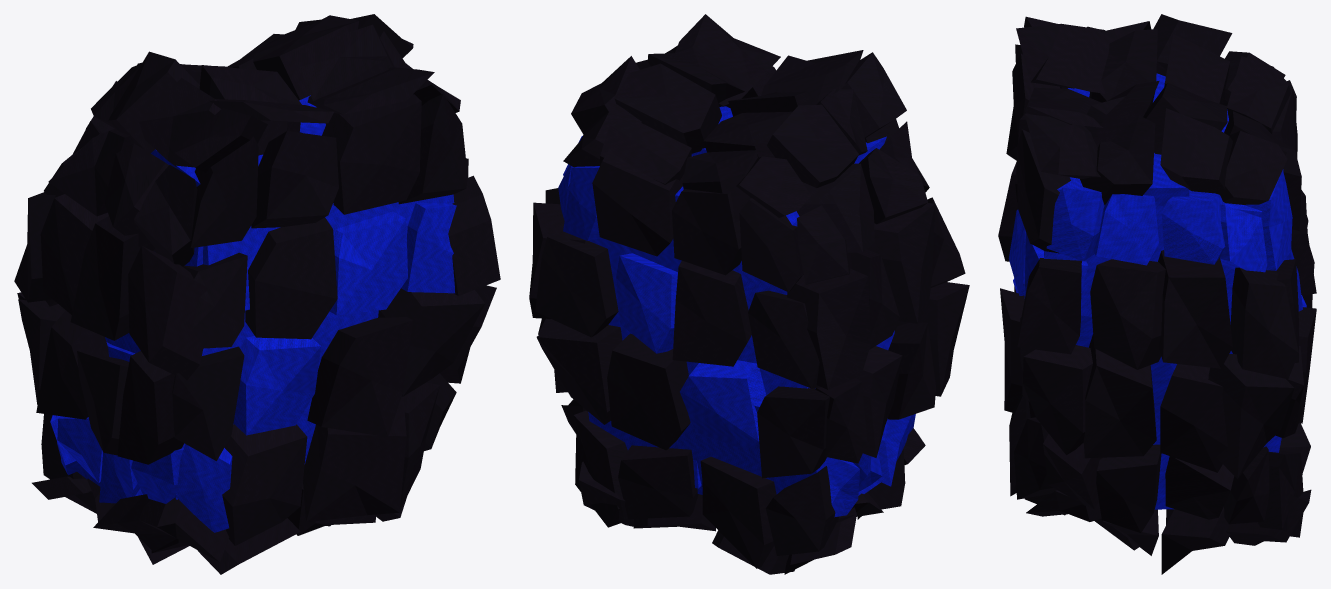
The model's file is nightglass_ore.glb.
3 renders of one model, left to right at view 1: azimuth 30°, elevation 25°; view 2: azimuth 150°, elevation 25°; view 3: azimuth 270°, elevation 25°, orthographic. The views are drawn at different scales.
Visible parts, largest first — view 1: Violet black vitreous crust, Blue glass fracture; view 2: Violet black vitreous crust, Blue glass fracture; view 3: Violet black vitreous crust, Blue glass fracture.
Boxes of the visible parts, left/top/right/bottom form: Violet black vitreous crust: left=14, top=14, right=500, bottom=574; Blue glass fracture: left=50, top=95, right=456, bottom=532; Violet black vitreous crust: left=529, top=14, right=969, bottom=574; Blue glass fracture: left=558, top=106, right=915, bottom=517; Violet black vitreous crust: left=998, top=14, right=1316, bottom=574; Blue glass fracture: left=1008, top=73, right=1306, bottom=509.
Bounding box in the file's own units: 0.3163 × 0.3921 × 0.2356.
Materials: 2 (2 with a texture image).
